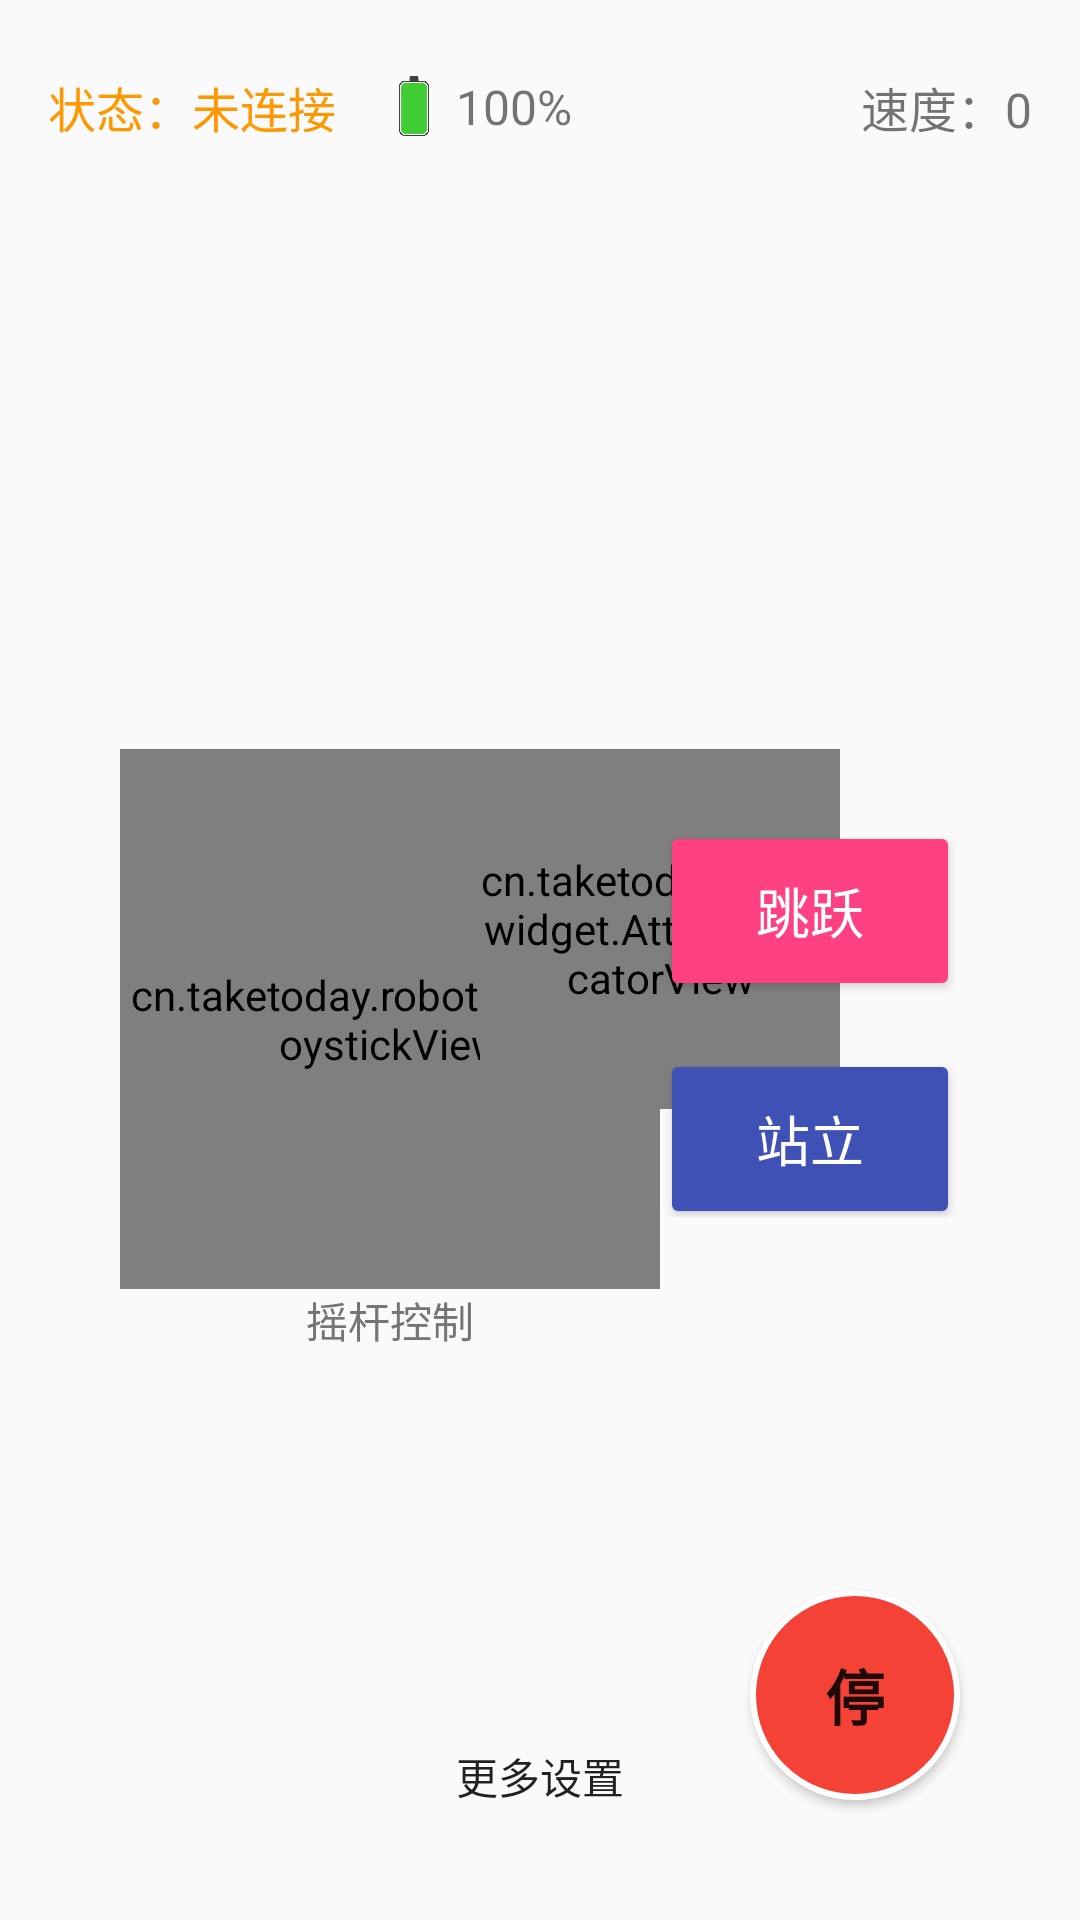

Icon bounding boxes for this 1080×1920 phone screenshot, format (x1=x1, y1=y1, x2=x2, y2=y2):
battery: (x1=399, y1=76, x2=429, y2=136)
